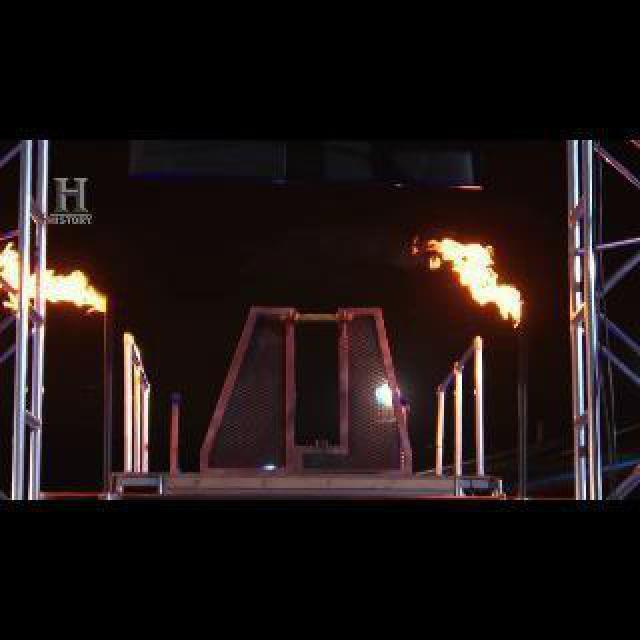Fire: (406, 230, 544, 334), (2, 246, 120, 322)
